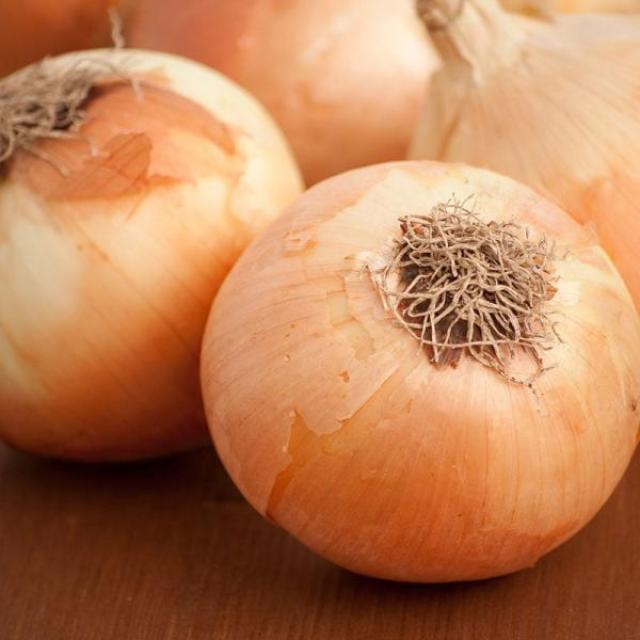Onion: (198, 160, 640, 586), (0, 47, 306, 467)
